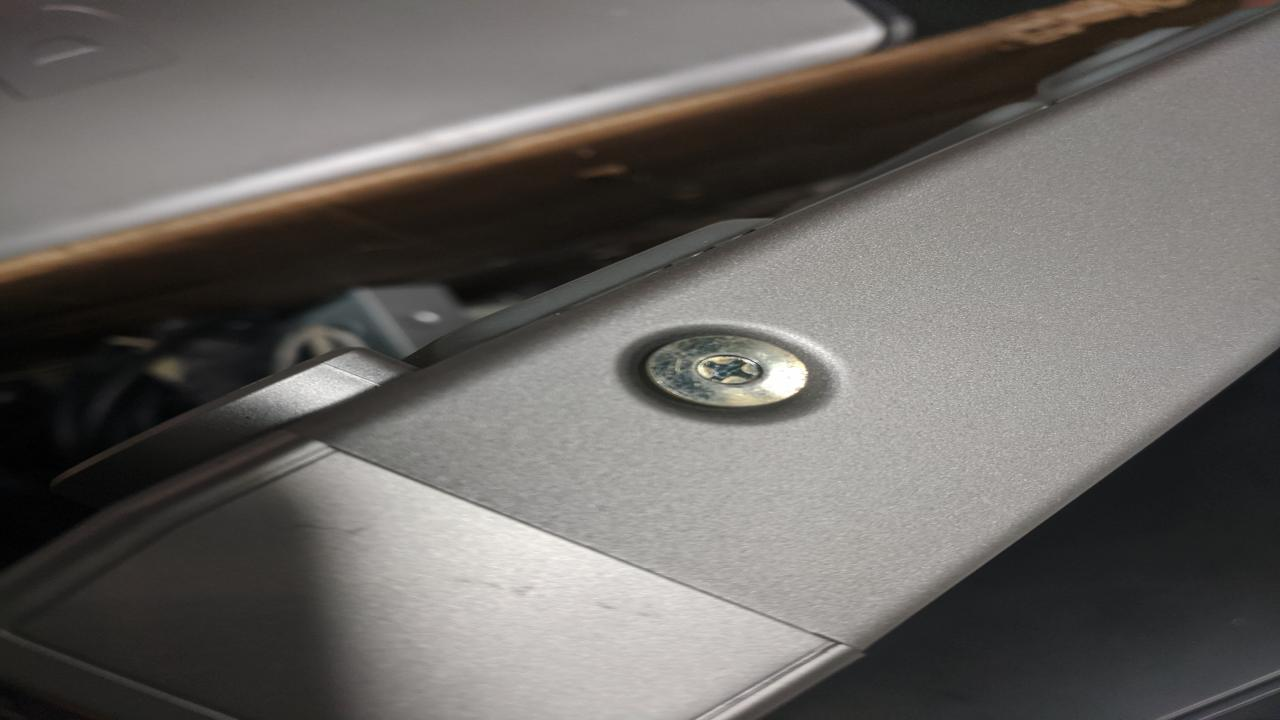CRS: (688, 352, 763, 385)
